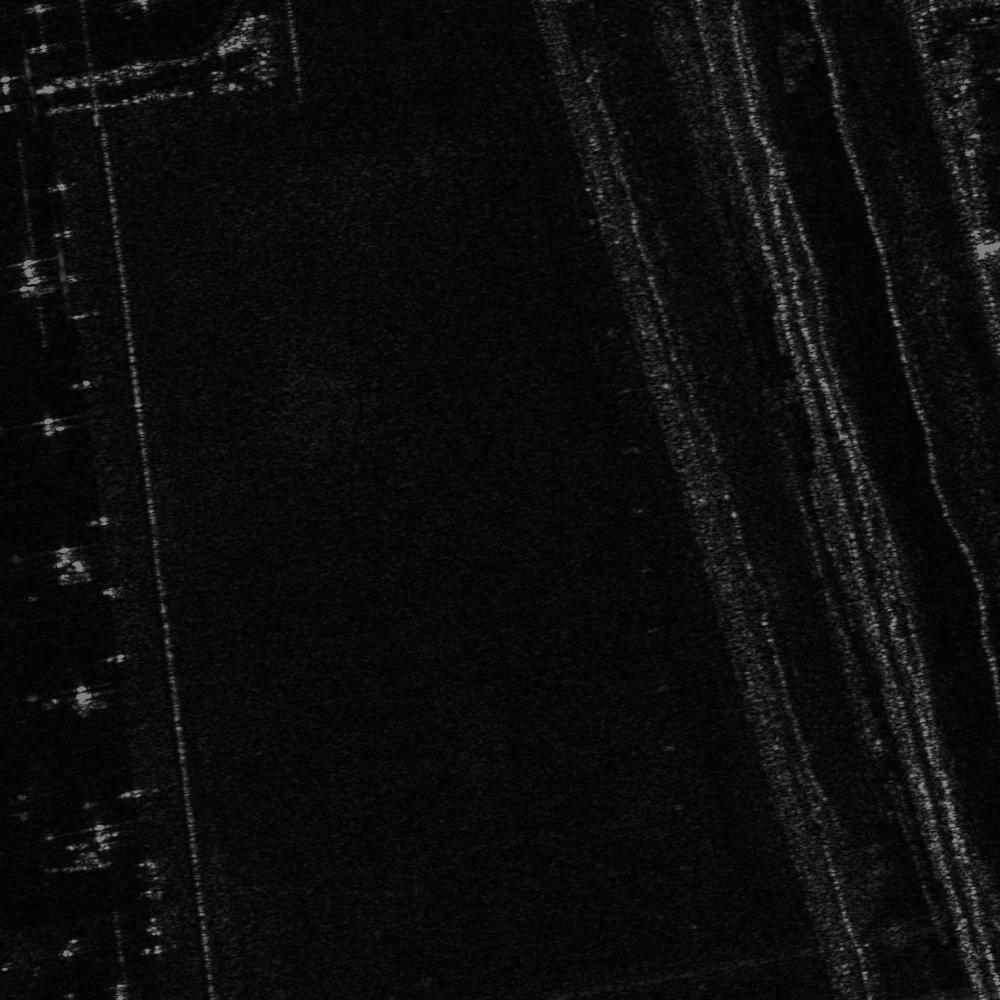A220: (1, 927, 68, 999)
